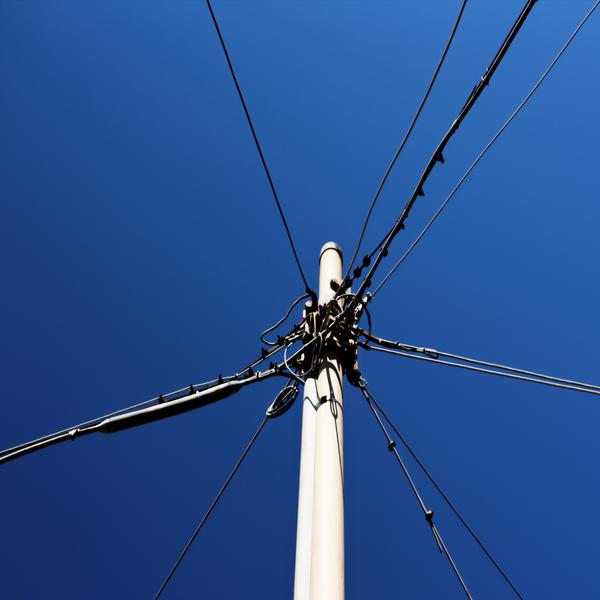utility_pole: (251, 231, 397, 427)
